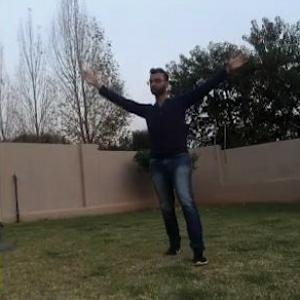takeoff: (80, 39, 251, 267)
